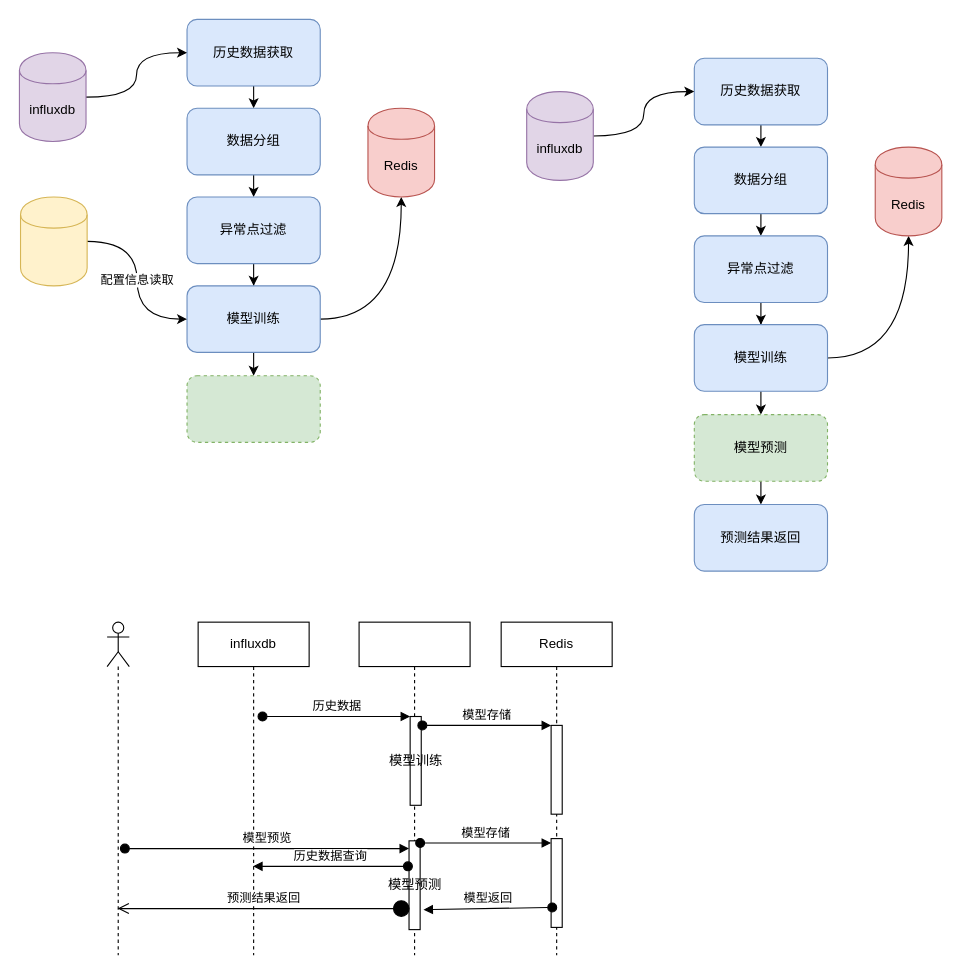
The diagram is 961 pixels wide and 975 high, and some of its shapes have lost their labels. Here are the shapes that lost their labels. From the top down, the box of each, then its label:
(19, 196, 87, 286): Mysql
(186, 375, 320, 442): 模型评估
(358, 621, 470, 955): AIOPS
